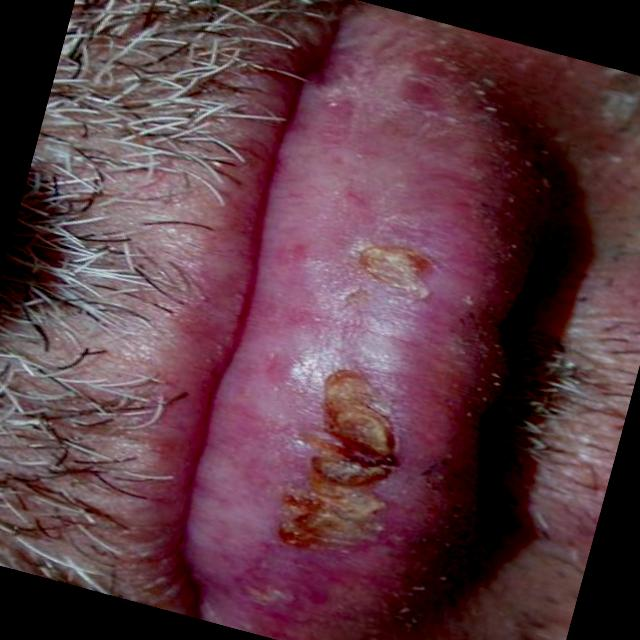Cancer: (250, 339, 448, 585), (323, 222, 476, 323)
